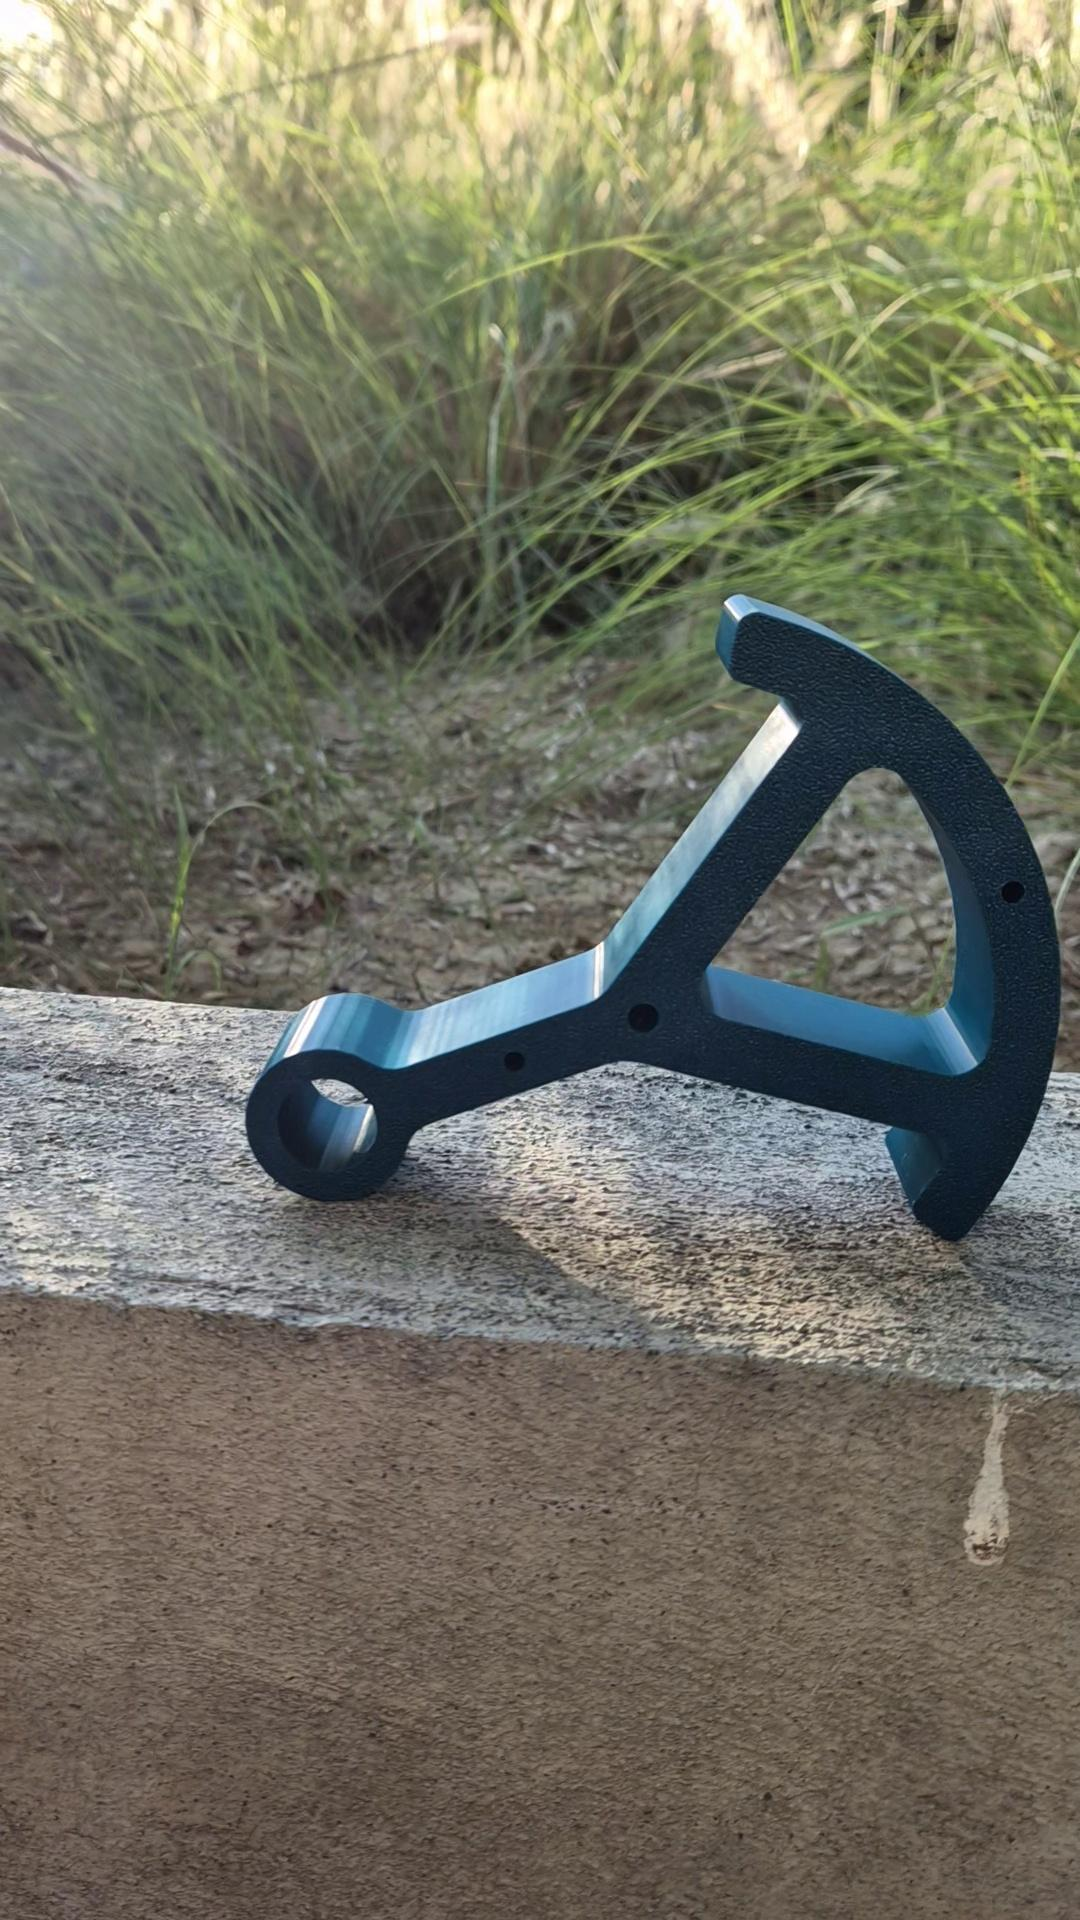Paddles: (239, 589, 1064, 1247)
